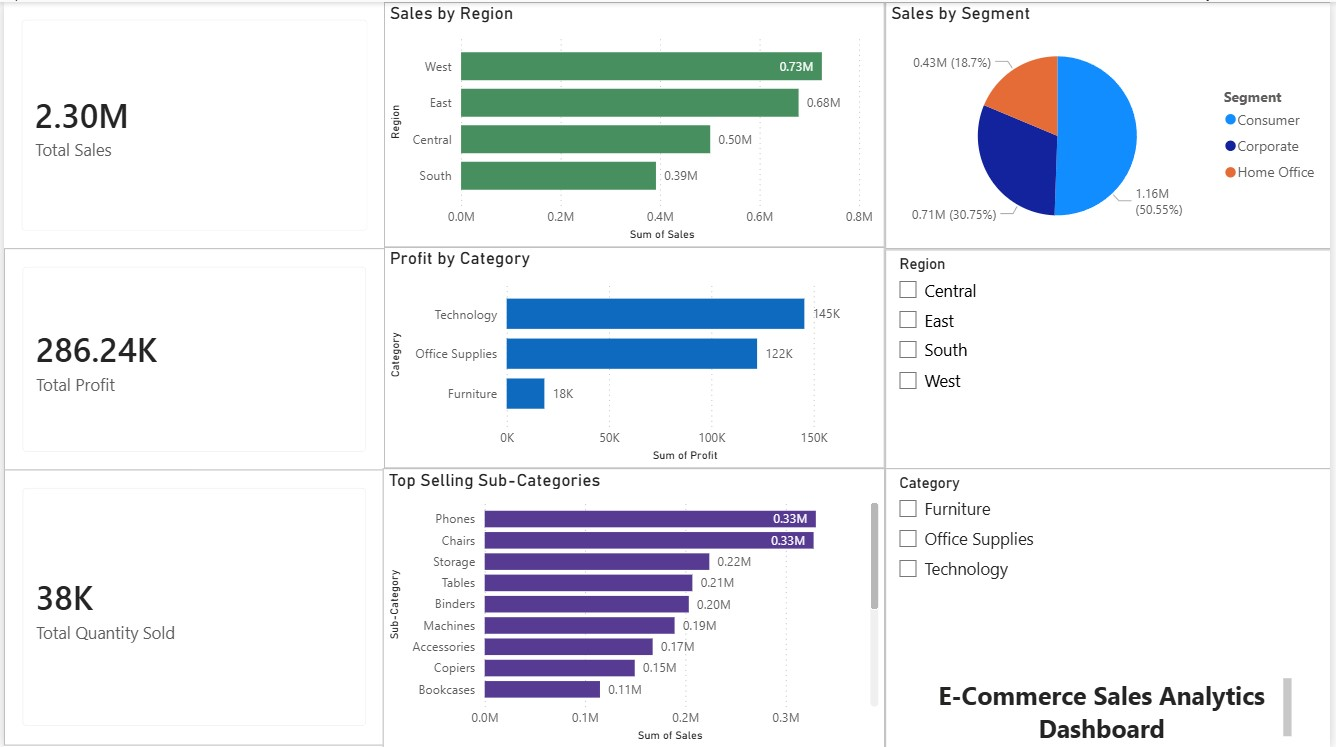

What the dashboard file says about the page in this screenshot:
{"tool":"powerbi","page":{"name":"Page 1","canvas":[1280,720],"ordinal":0},"visuals":[{"type":"cardVisual","fields":{"Data":["Sum(cleaned_superstore.Sales)"]},"box":[0,0,368.3,238.3],"z":0},{"type":"cardVisual","fields":{"Data":["Sum(cleaned_superstore.Profit)"]},"box":[0,237.5,368.3,215],"z":1000},{"type":"cardVisual","fields":{"Data":["Sum(cleaned_superstore.Quantity)"]},"box":[0,451.7,368.3,266.7],"z":2000},{"type":"clusteredBarChart","title":"Sales by Region","fields":{"Category":["cleaned_superstore.Region"],"Y":["Sum(cleaned_superstore.Sales)"]},"box":[366.7,0,483.3,236.7],"z":3000},{"type":"clusteredBarChart","title":"Profit by Category","fields":{"Category":["cleaned_superstore.Category"],"Y":["Sum(cleaned_superstore.Profit)"]},"box":[366.7,236.7,483.3,213.3],"z":4000},{"type":"clusteredBarChart","title":"Top Selling Sub-Categories","fields":{"Category":["cleaned_superstore.Sub-Category"],"Y":["Sum(cleaned_superstore.Sales)"]},"box":[366,452,484,268],"z":5000},{"type":"pieChart","title":"Sales by Segment","fields":{"Category":["cleaned_superstore.Segment"],"Y":["Sum(cleaned_superstore.Sales)"]},"box":[850,0,430,238.3],"z":6000},{"type":"slicer","fields":{"Values":["cleaned_superstore.Region"]},"box":[850,238.3,430,211.7],"z":7000},{"type":"slicer","fields":{"Values":["cleaned_superstore.Category"]},"box":[850,450,430,270],"z":8000},{"type":"textbox","box":[880,648.3,368.3,70],"z":8001}]}

Visuals, with their boxes in screenshot pixels (x1, y1, x2, y2), scaled from the page's 1280x720 canvas onto the 1336x747 screenshot:
cardVisual - Sum(cleaned_superstore.Sales): {"left": 0, "top": 0, "right": 384, "bottom": 247}
cardVisual - Sum(cleaned_superstore.Profit): {"left": 0, "top": 246, "right": 384, "bottom": 469}
cardVisual - Sum(cleaned_superstore.Quantity): {"left": 0, "top": 469, "right": 384, "bottom": 745}
"Sales by Region" clusteredBarChart: {"left": 383, "top": 0, "right": 887, "bottom": 246}
"Profit by Category" clusteredBarChart: {"left": 383, "top": 246, "right": 887, "bottom": 467}
"Top Selling Sub-Categories" clusteredBarChart: {"left": 382, "top": 469, "right": 887, "bottom": 746}
"Sales by Segment" pieChart: {"left": 887, "top": 0, "right": 1335, "bottom": 247}
slicer - cleaned_superstore.Region: {"left": 887, "top": 247, "right": 1335, "bottom": 467}
slicer - cleaned_superstore.Category: {"left": 887, "top": 467, "right": 1335, "bottom": 746}
textbox: {"left": 918, "top": 673, "right": 1303, "bottom": 745}
